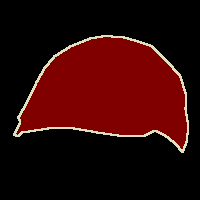hat: (14, 36, 188, 152)
